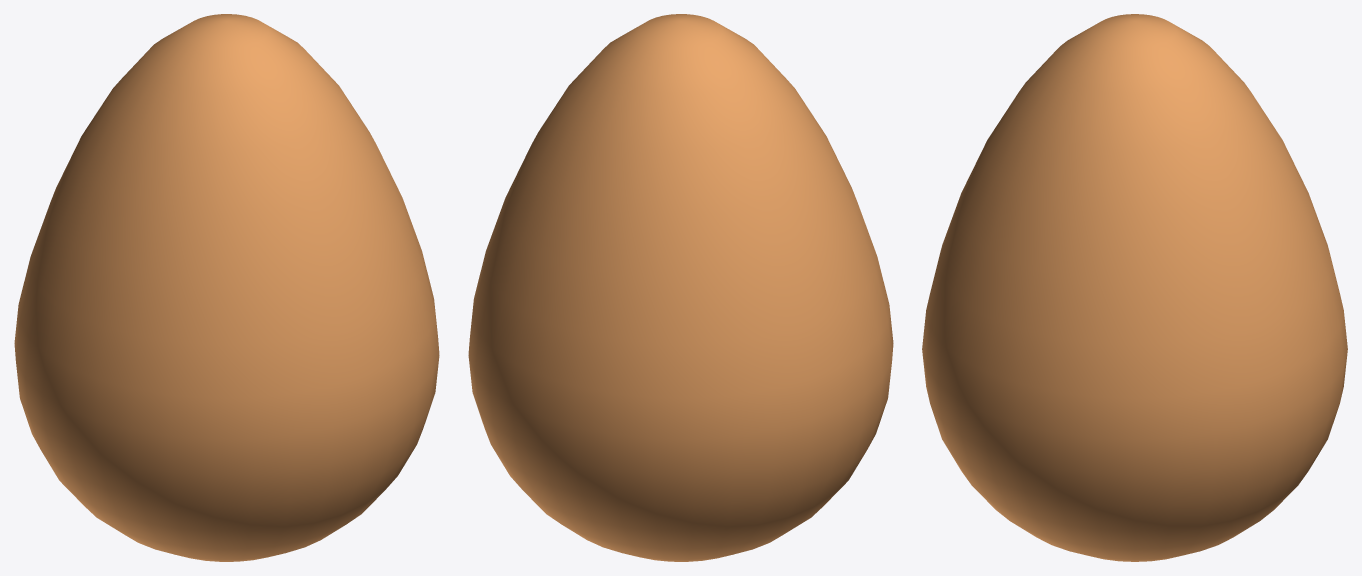
File: egg.fbx
3 renders of one model, left to right at view 1: azimuth 30°, elevation 25°; view 2: azimuth 150°, elevation 25°; view 3: azimuth 270°, elevation 25°, orthographic.
Parts seen in each view (by area): view 1: egg; view 2: egg; view 3: egg.
Part boxes in pixels (x1,y1,x2,y2): egg: (14,14,439,561); egg: (468,14,893,561); egg: (922,14,1347,561).
Bounding box in the file's own units: 59.44 × 80.24 × 59.44.
